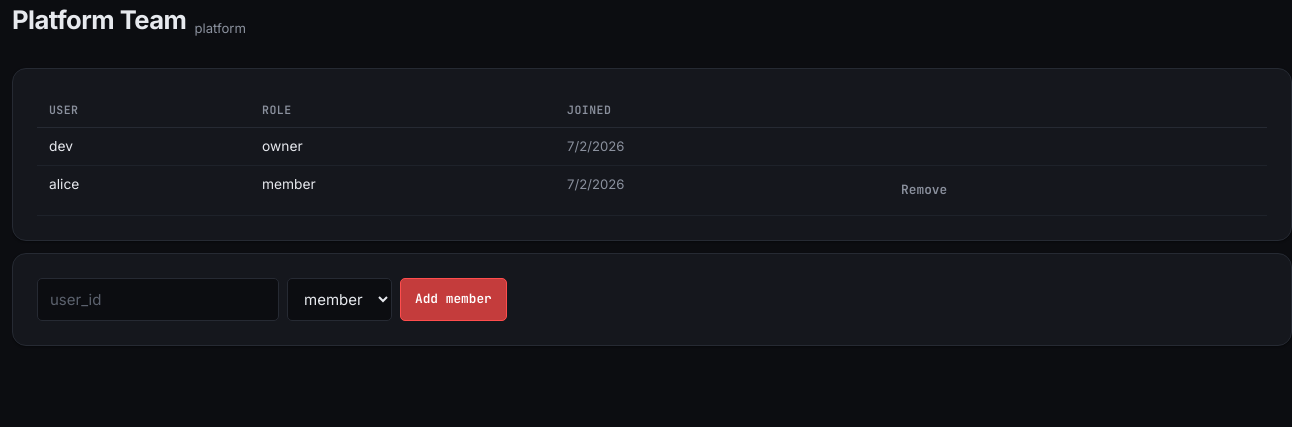
TeamDetailPage › shows feedback when adding with an empty user id
Click the button "Add member" at [453, 299], box [400,278,507,321]
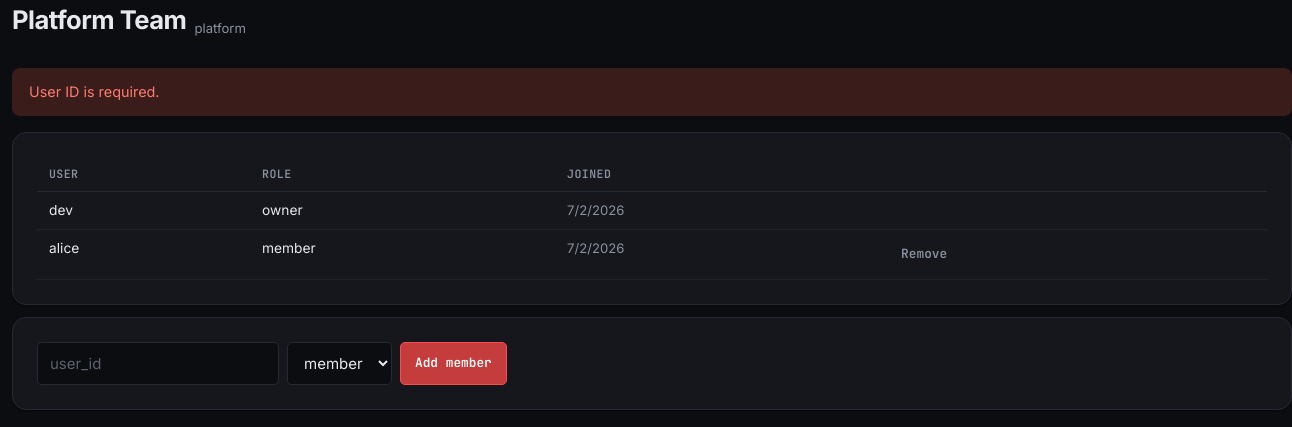
expect the text "User ID is required." is shown: met, box [12,68,1291,116]
